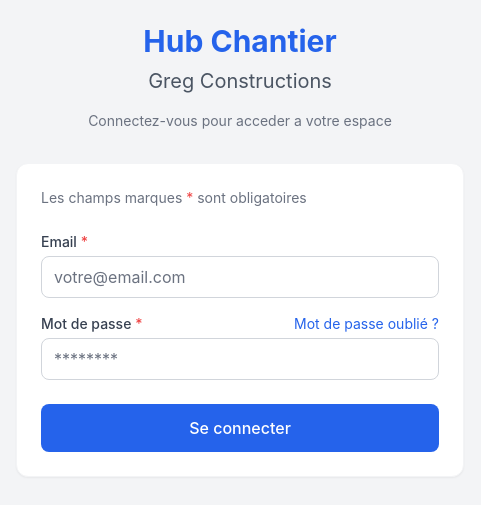
Test: LoginPage › should validate required password field with Zod
Soumettre sans mot de passe (seulement email)
Type "test@example.com" into the field labelled "Email *".
click(240, 277); type("test@example.com")  # box [41, 256, 439, 298]
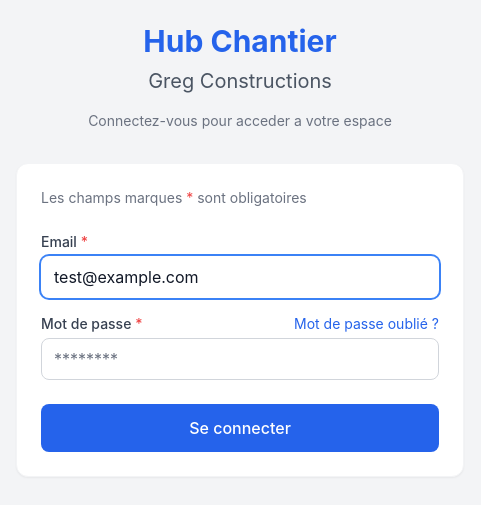
Use fireEvent.submit to bypass HTML5 native constraint validation
Submit the form named "Se connecter", box [16, 163, 464, 477]
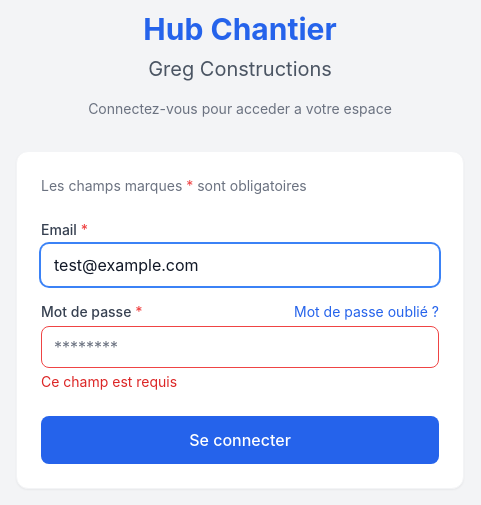
Check: the text "Ce champ est requis" is shown, box [41, 373, 177, 390]
